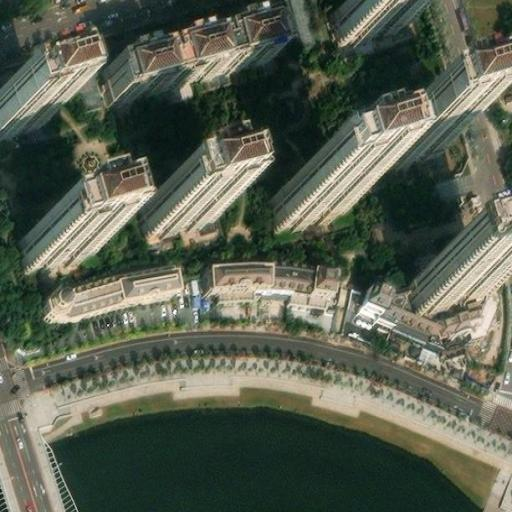building: (107, 14, 273, 94), (47, 256, 182, 311), (365, 279, 485, 332), (413, 250, 506, 310), (154, 176, 231, 233), (281, 172, 361, 226), (17, 215, 92, 270), (212, 255, 342, 286), (399, 93, 466, 142), (327, 0, 411, 29)
